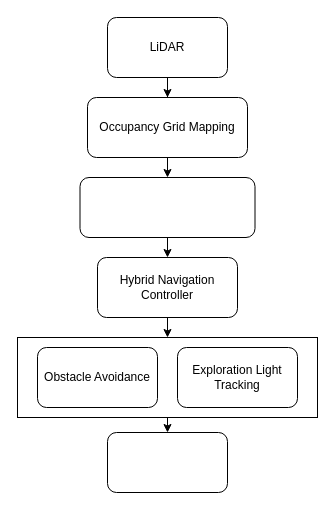
The diagram is 335 pixels wide and 510 high, and some of its shapes have lost their labels. The shapes that lost their labels are listed below. From the top down, each one's box as (x1, y1, x2, y2) in pixels, then its label:
(79, 176, 255, 238): Frontier Selection (Distance + Heading Cost)
(106, 432, 228, 492): Robot Motion
